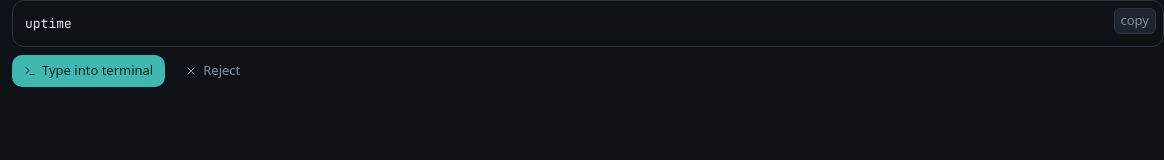
Test: types only when the original user, role and terminal still match
This screenshot has width=1164, height=160.
Earlier steps of the test are not shown.
Click the button "Type into terminal": click(89, 71) [12,55,165,87]
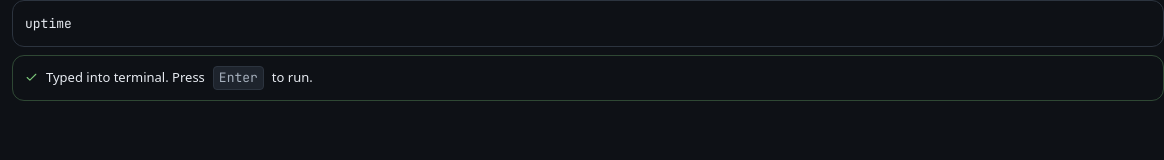
Expected: the text "uptime" is shown, [25,15,72,32]
Result: the text "Typed into terminal. Press Enter to run." is shown at [12,55,1163,101]
